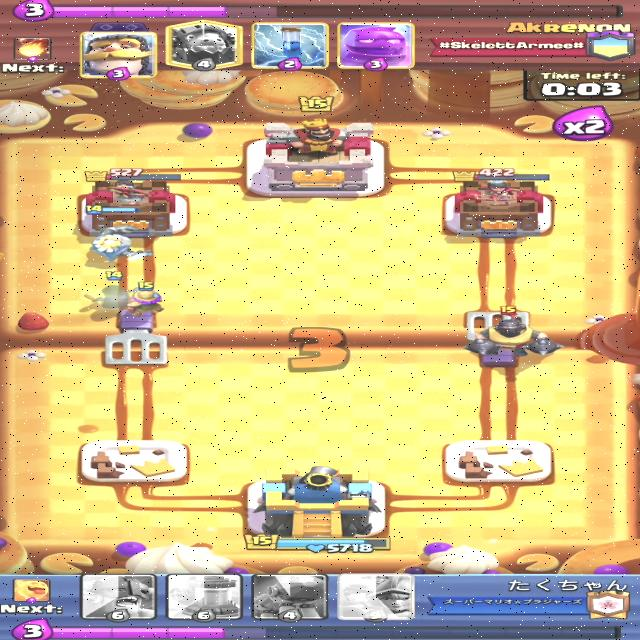Enemy-MegaKnight: (461, 305, 564, 357)
Player-Bandit: (84, 271, 134, 310)
Player-Musketeer: (130, 280, 166, 317)
Player-RoyalGhost: (84, 204, 158, 261)
